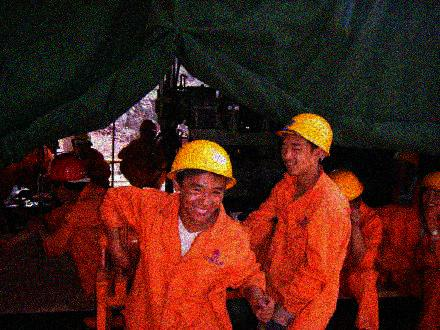helmet: (165, 137, 238, 222), (274, 111, 334, 175), (43, 152, 93, 204), (327, 168, 365, 209), (388, 148, 420, 184), (420, 171, 440, 212), (70, 130, 92, 156), (138, 118, 158, 145)
